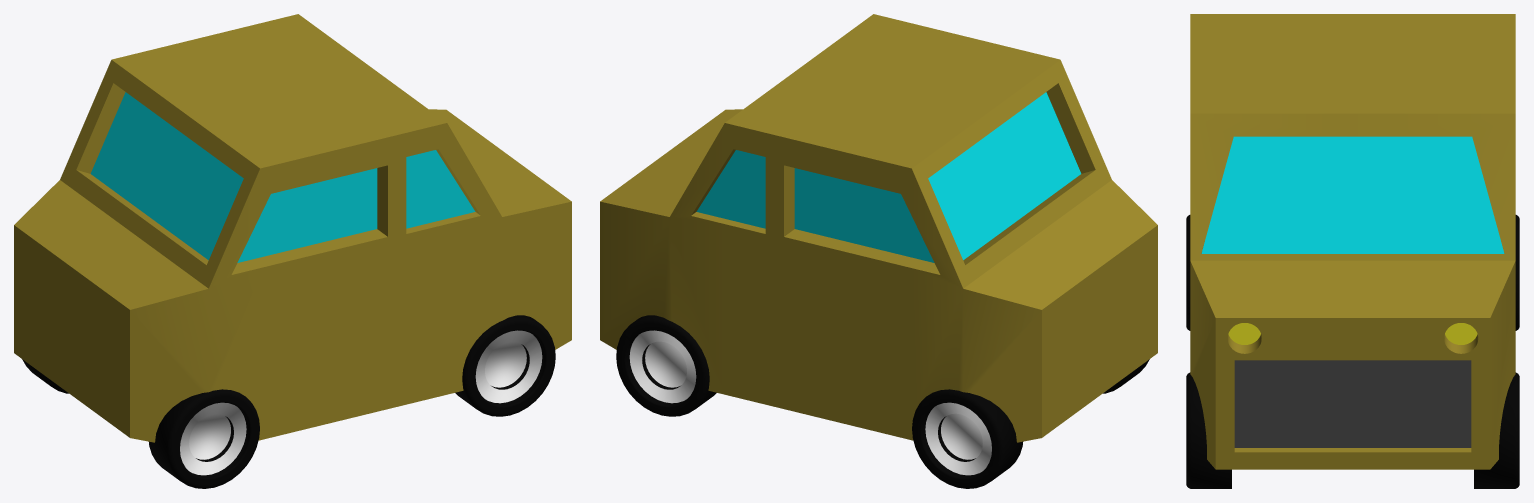
File: YellowCar.fbx
The picture shows the model from 3 angles, left to right: view 1: azimuth 30°, elevation 25°; view 2: azimuth 150°, elevation 25°; view 3: azimuth 270°, elevation 25°; orthographic projection. The views are drawn at different scales.
Parts seen in each view (by area): view 1: CarYellow; view 2: CarYellow; view 3: CarYellow.
Boxes of the visible parts, x1=… form: CarYellow: x1=14, y1=14, x2=571, y2=488; CarYellow: x1=600, y1=14, x2=1157, y2=488; CarYellow: x1=1186, y1=14, x2=1519, y2=488.
Bounding box in the file's own units: 5.57 × 3.75 × 3.37.
